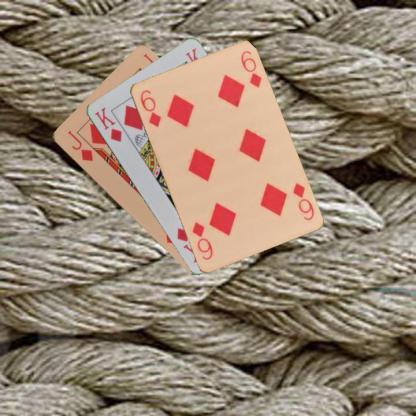6d: (288, 180, 315, 222), (137, 87, 162, 128)
Jd: (64, 128, 94, 163)
Kd: (92, 105, 123, 143)
